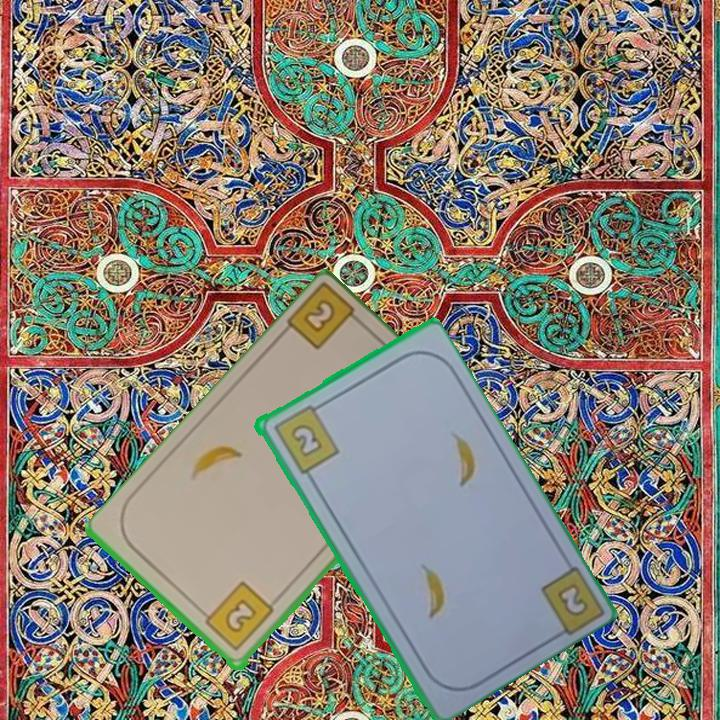2b: (196, 578, 277, 655), (283, 282, 369, 354), (269, 399, 342, 477), (556, 583, 588, 617)
